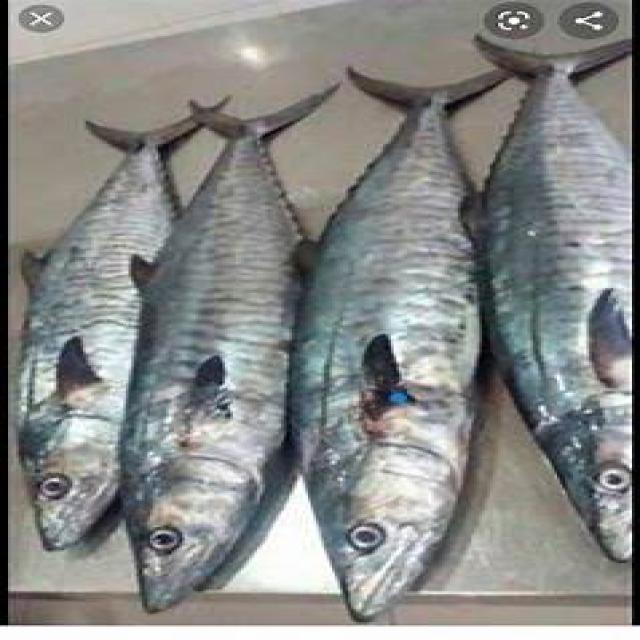seer: (284, 66, 513, 620), (116, 85, 342, 614)
